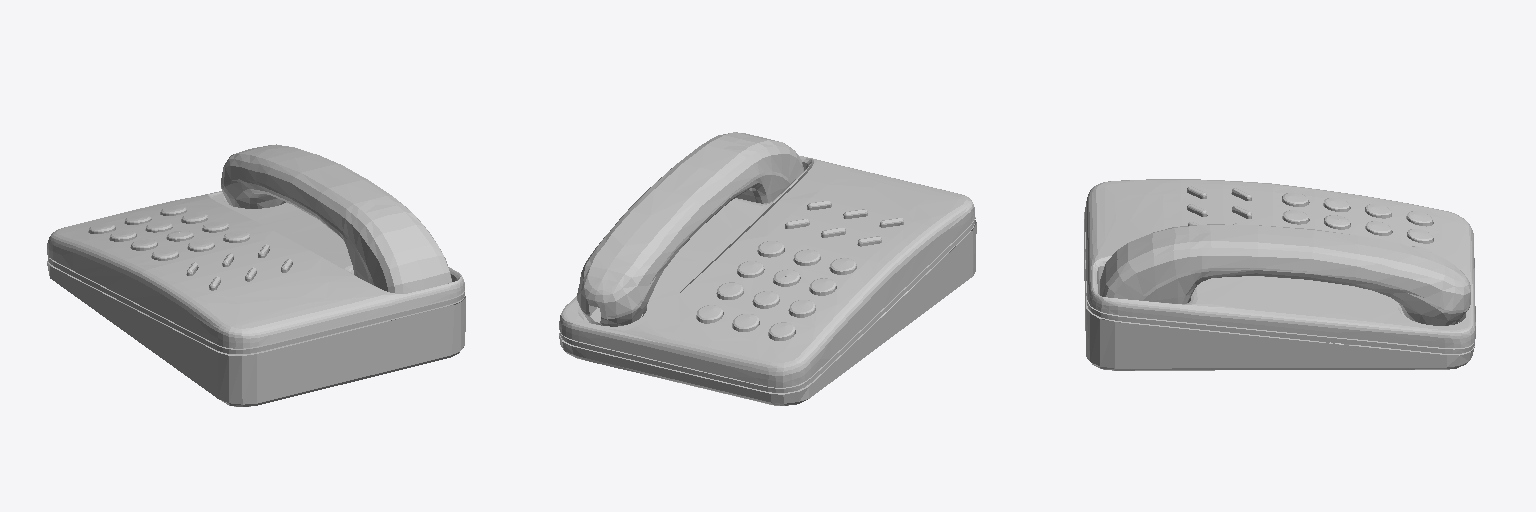
File: telephone.obj
3 renders of one model, left to right at view 1: azimuth 30°, elevation 25°; view 2: azimuth 150°, elevation 25°; view 3: azimuth 270°, elevation 25°, orthographic.
Parts seen in each view (by area): view 1: Telephone_Material_#57_0; view 2: Telephone_Material_#57_0; view 3: Telephone_Material_#57_0.
Part boxes in pixels (left/top/right/bottom): Telephone_Material_#57_0: left=47, top=144, right=465, bottom=406; Telephone_Material_#57_0: left=559, top=132, right=976, bottom=405; Telephone_Material_#57_0: left=1084, top=179, right=1475, bottom=370.
Size of the model in its own units: 4.08 by 1.96 by 5.6.